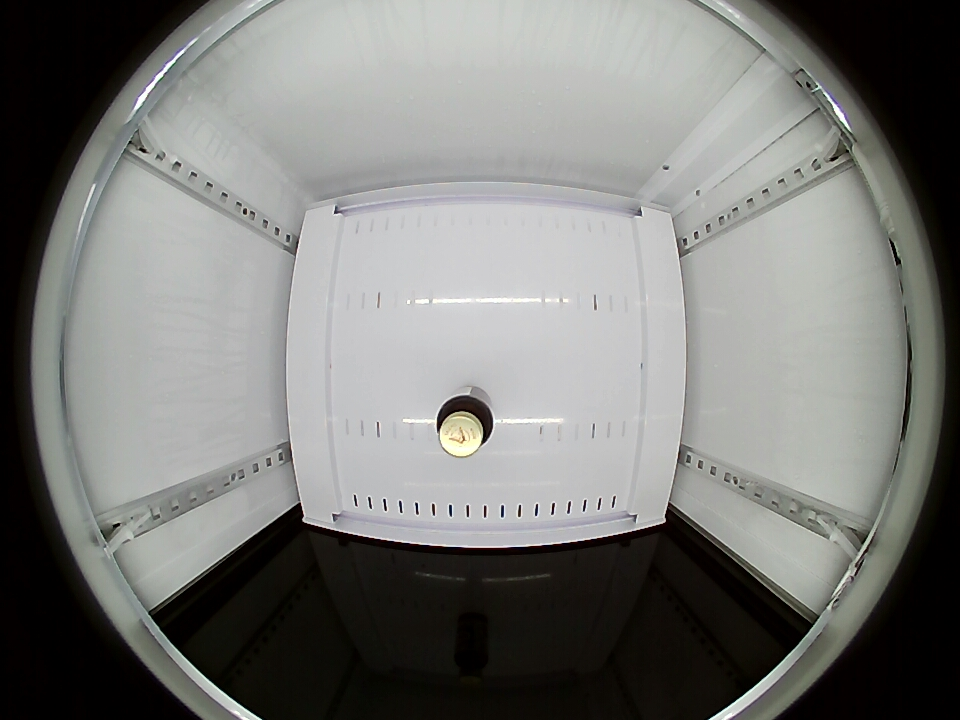libaojian: (436, 389, 496, 458)
